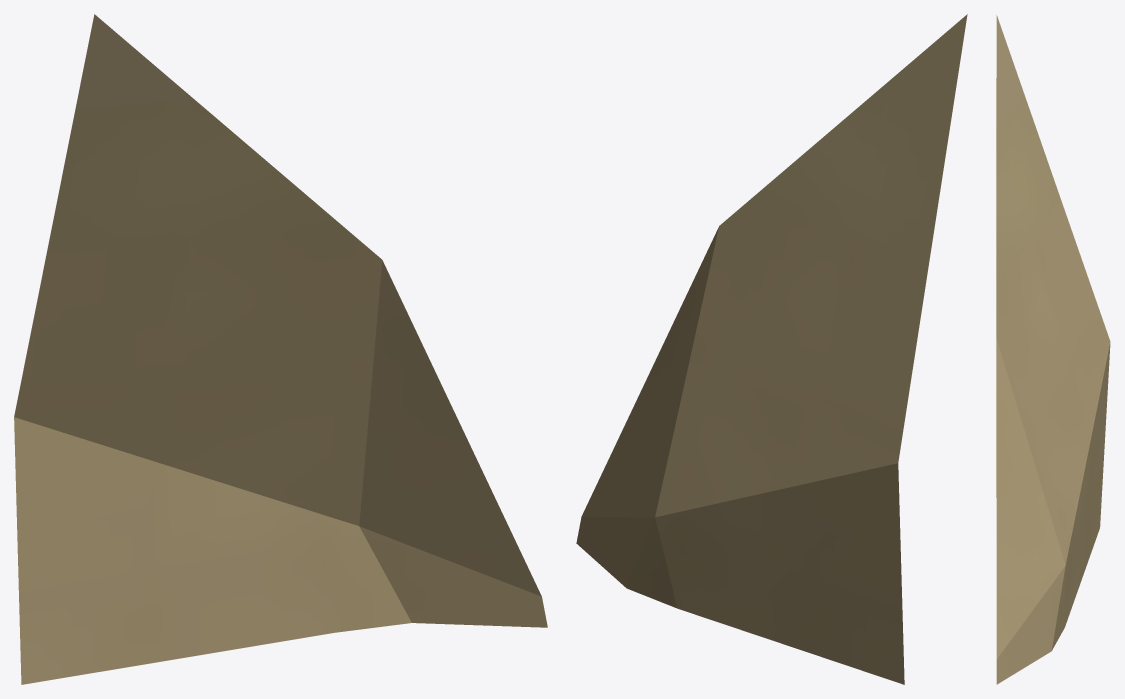
The picture shows the model from 3 angles, left to right: view 1: azimuth 30°, elevation 25°; view 2: azimuth 150°, elevation 25°; view 3: azimuth 270°, elevation 25°; orthographic projection. The views are drawn at different scales.
Bounding box in the file's own units: 0.0747 × 0.114 × 0.0229.
1 material, 1 textured.
